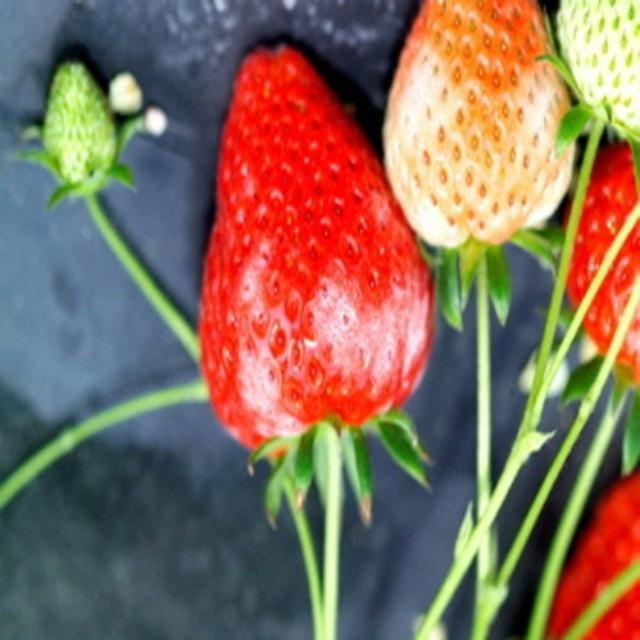Powdery Mildew Fruit: (195, 160, 435, 458)
